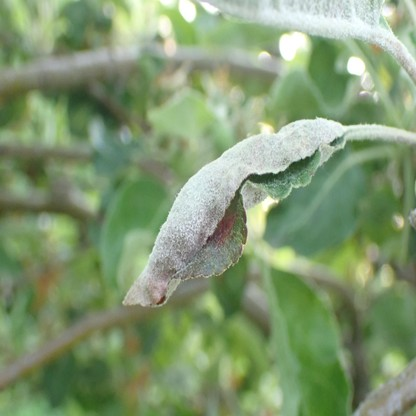powder: (124, 116, 343, 306), (202, 0, 385, 40)
